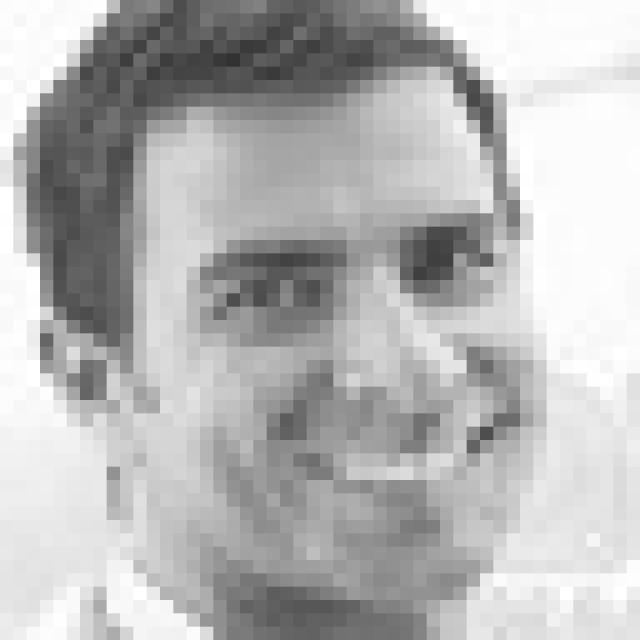happy: (198, 187, 516, 524)
